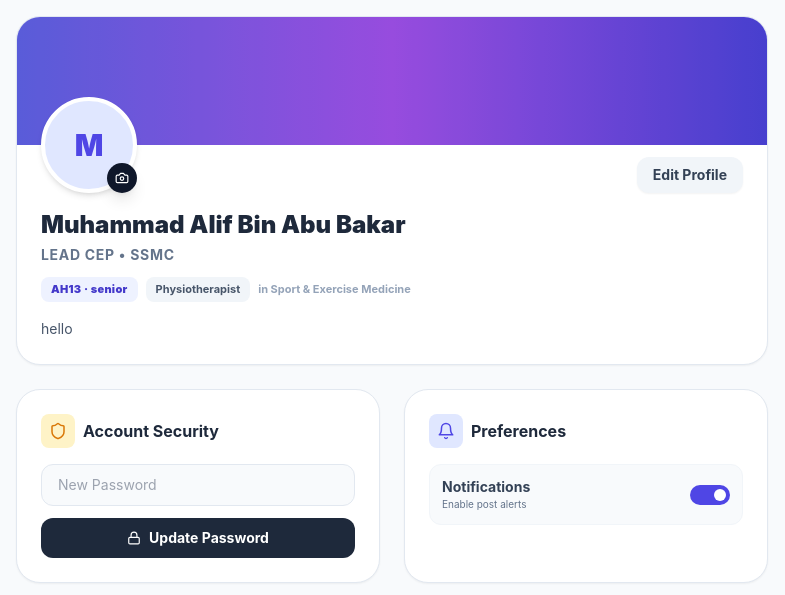
Test: when the membership write is refused › says which half saved and which did not
Click the button "Edit Profile". click: (690, 175)
box: [637,157,743,193]
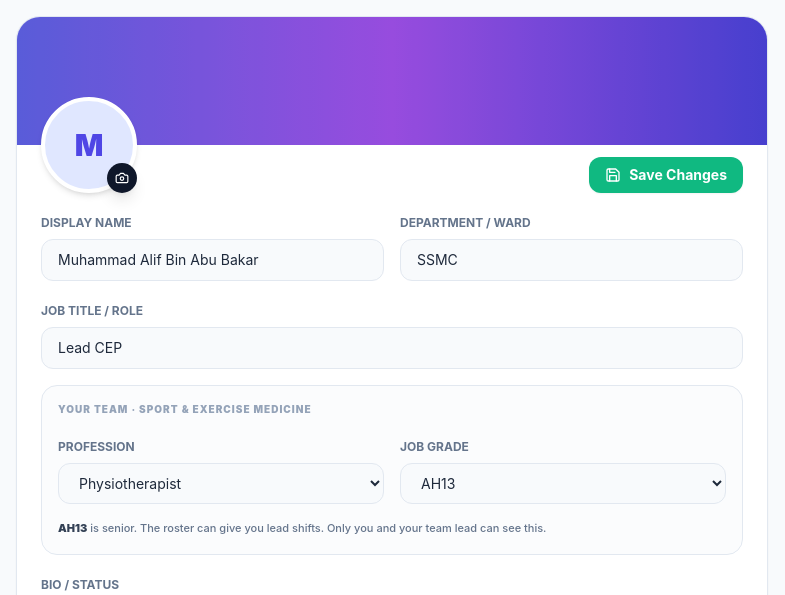
Select "AH17" in the dropdown labelled "Job Grade". click: (563, 484)
box: [400,463,726,504]
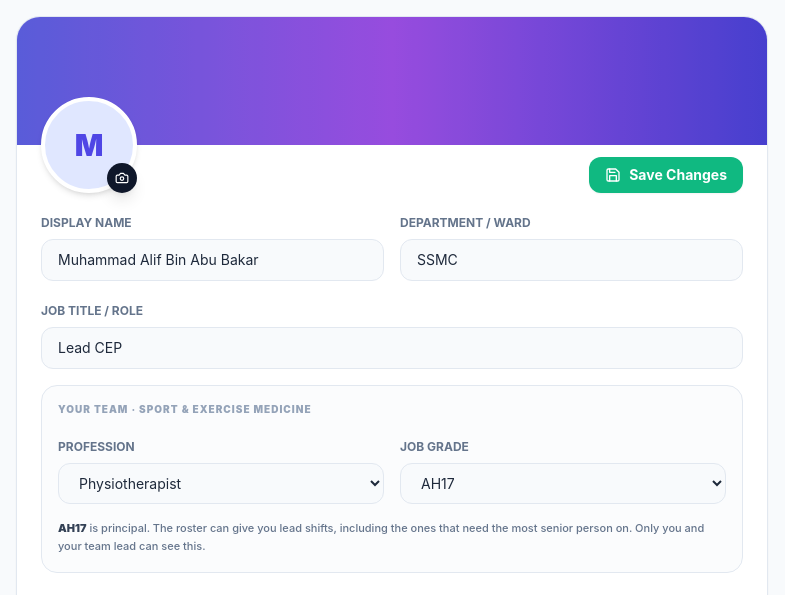
Click the button "Save Changes". click: (666, 175)
box: [589,157,743,193]
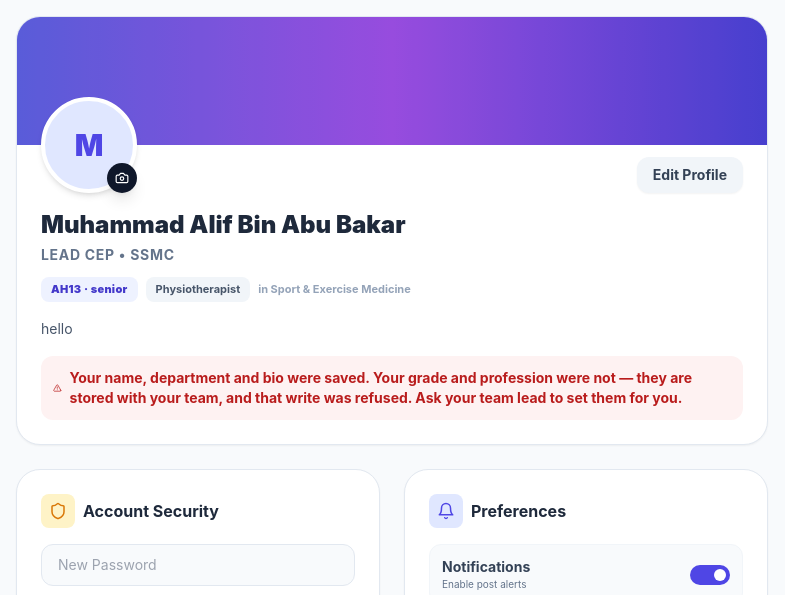
expect the text "bio were saved" is shown: met, box [70,369,692,406]
